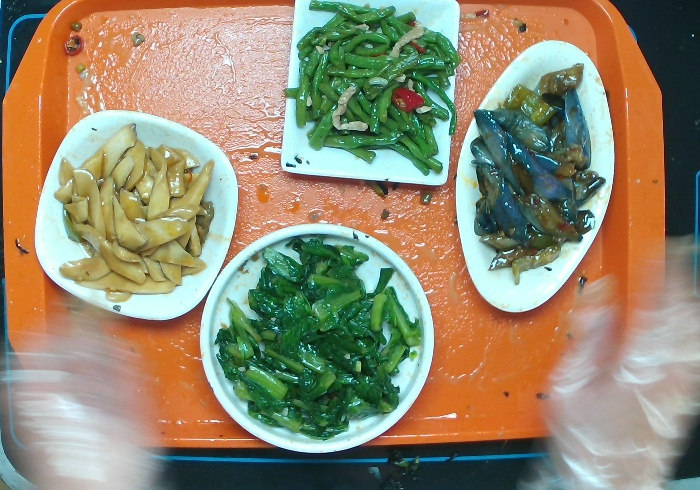HZYJPL-Si_Fang_Die: (274, 8, 463, 192)
HZYJPL-Si_Fang_Yuan_Die: (31, 108, 237, 321)
HZYJPL-Xiao_Yu_Die: (447, 40, 615, 312)
HZYJPL-Xiao_Yuan_Die: (197, 222, 433, 456)
